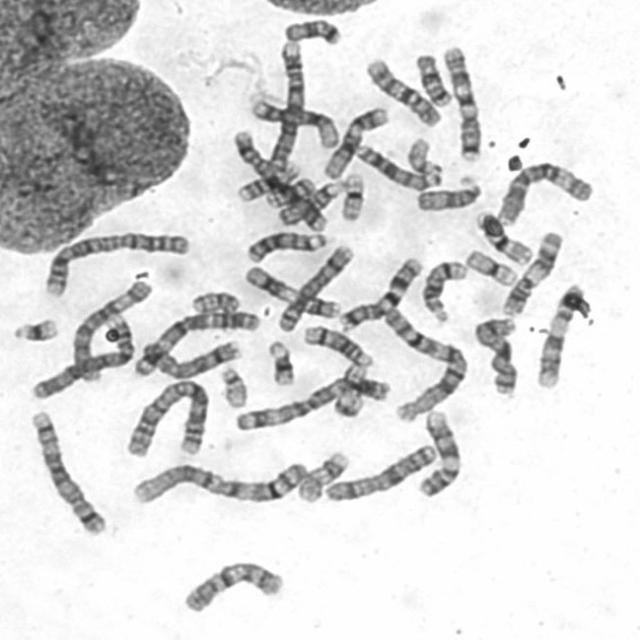A1: (376, 300, 471, 424), (125, 455, 312, 507)
A2: (36, 226, 194, 298), (120, 374, 212, 460)
A3: (230, 369, 390, 433), (130, 305, 262, 379)
B4: (25, 312, 136, 402), (260, 36, 306, 169)
B5: (23, 404, 108, 537), (228, 124, 330, 234)
C10: (176, 555, 286, 615), (360, 52, 444, 129)
C11: (239, 260, 343, 320), (497, 226, 565, 316)
C12: (318, 101, 392, 180), (244, 91, 341, 150)
C6: (65, 274, 156, 383), (491, 154, 596, 227)
C7: (333, 250, 424, 334), (437, 40, 484, 164)
C8: (272, 240, 356, 336), (128, 334, 244, 379)
C9: (530, 280, 590, 390), (413, 405, 464, 498)
D13: (349, 138, 443, 192), (240, 227, 329, 264)
D14: (298, 320, 375, 369), (416, 255, 470, 324)
D15: (272, 175, 347, 227), (411, 170, 483, 214)
E16: (469, 205, 534, 266), (232, 156, 304, 202)
E17: (292, 446, 351, 504), (327, 358, 369, 419)
E18: (409, 48, 455, 108), (279, 14, 343, 47)
F19: (460, 244, 520, 287), (335, 168, 367, 224)
F20: (260, 167, 322, 216), (186, 285, 242, 315)
G21: (262, 335, 298, 388), (7, 312, 61, 344)
G22: (402, 132, 444, 180), (213, 360, 249, 410)
X: (317, 438, 438, 505), (468, 311, 522, 398)
